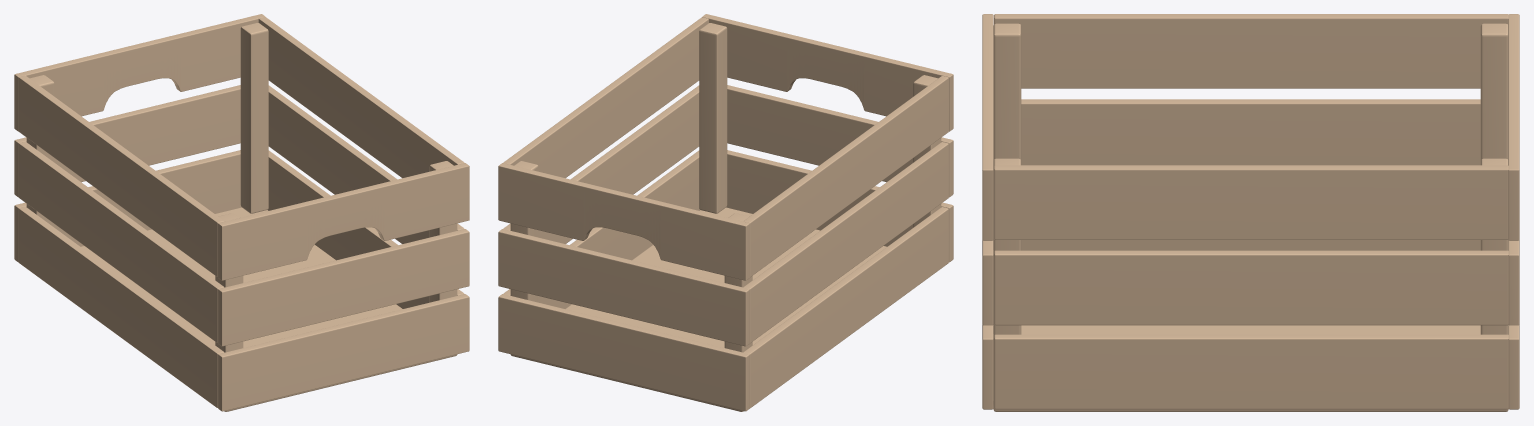
The model's file is KnaggleBox.fbx.
3 views of the same model, side by side, from view 1: azimuth 30°, elevation 25°; view 2: azimuth 150°, elevation 25°; view 3: azimuth 270°, elevation 25° (orthographic). The views are drawn at different scales.
Parts seen in each view (by area): view 1: BoxFloor2; view 2: BoxFloor2; view 3: BoxFloor2.
Part boxes in pixels (x1,y1,x2,y2): BoxFloor2: (14,14,469,411); BoxFloor2: (498,14,953,411); BoxFloor2: (982,14,1519,411).
Bounding box in the file's own units: 33 × 24.43 × 47.94.
